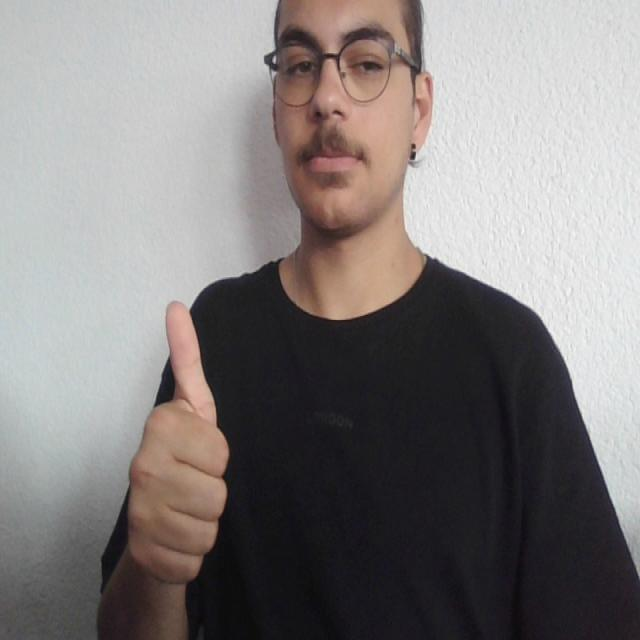Tamam: (109, 294, 238, 594)
